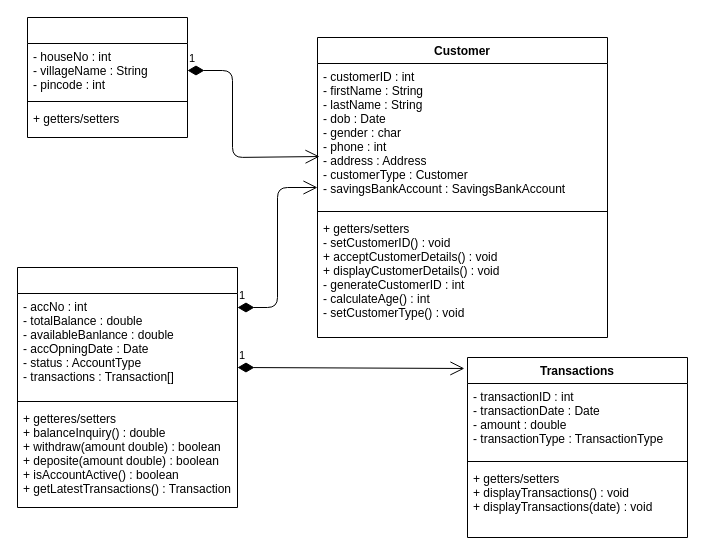
The diagram is 705 pixels wide and 558 high, and some of its shapes have lost their labels. The shapes that lost their labels are listed below. From the top down, each one's box as (x1, y1, x2, y2) in pixels, then its label:
(26, 16, 188, 138): Address
(16, 266, 238, 508): SavingsBankAccount
